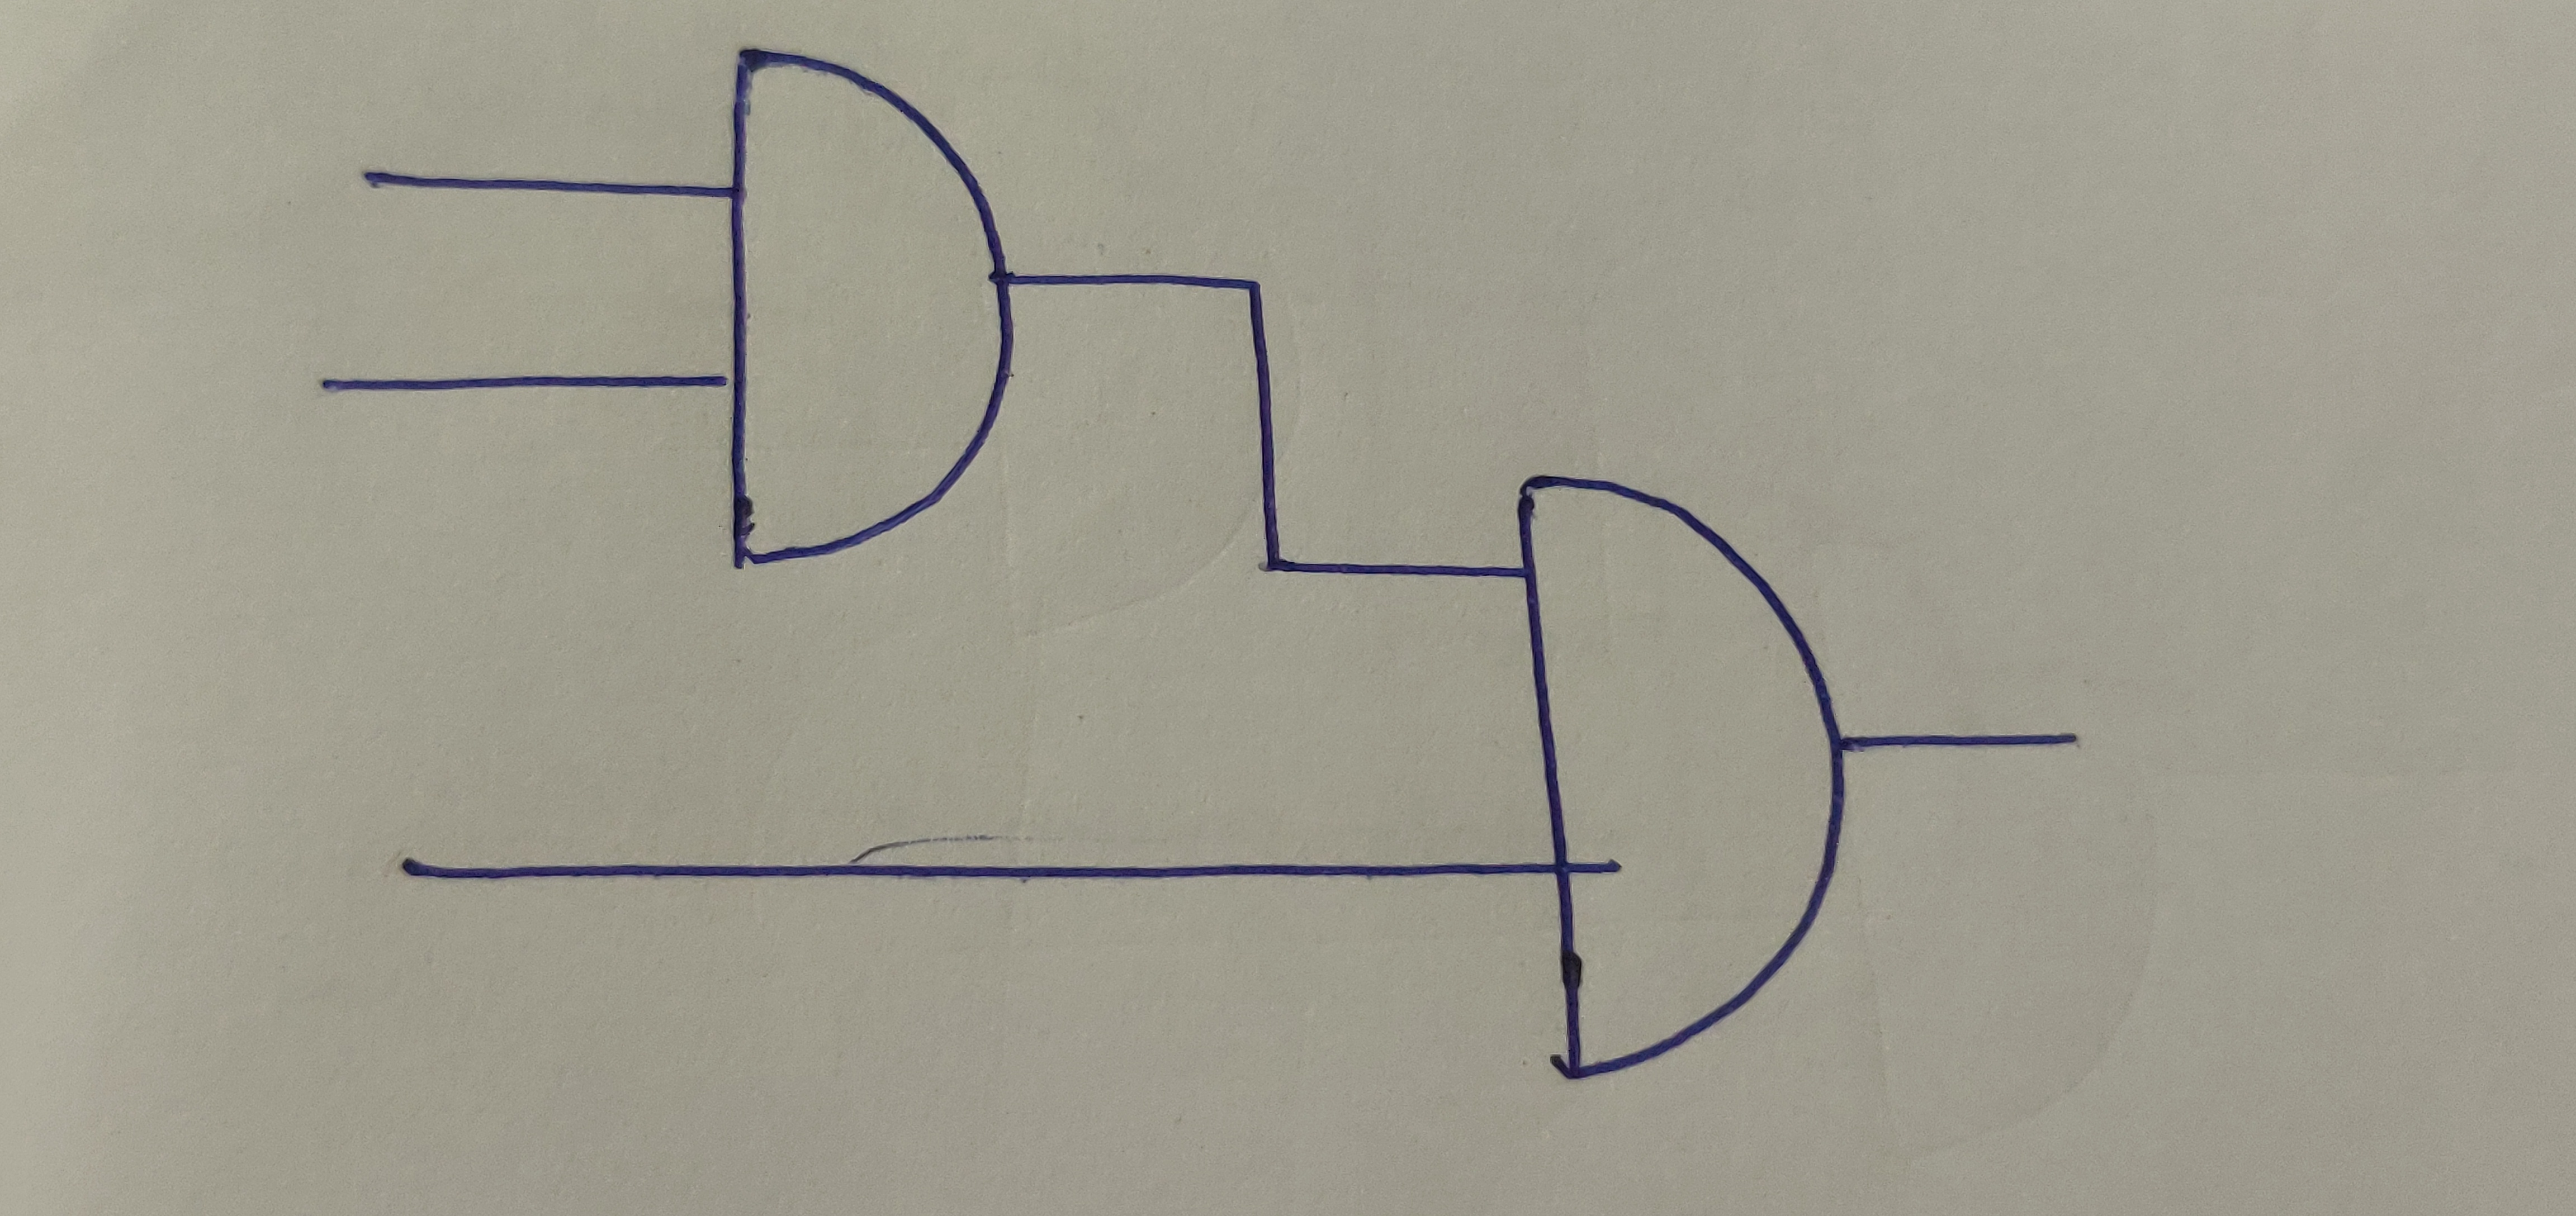and: (1513, 477, 1848, 1075), (726, 51, 1015, 565)
